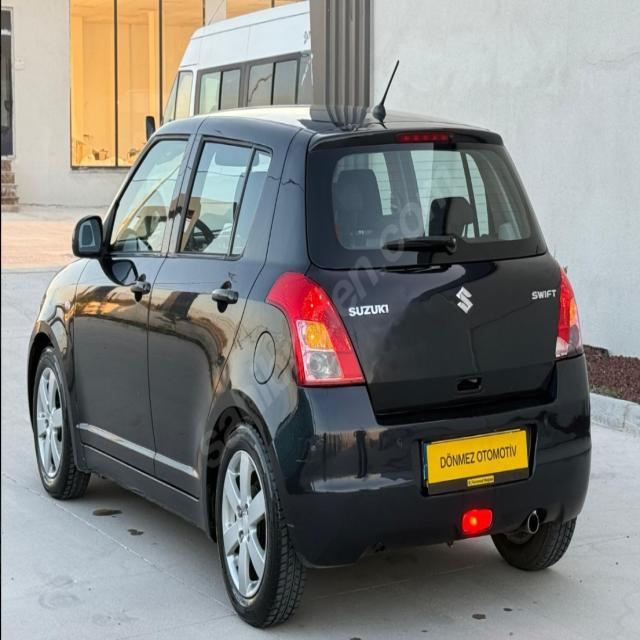suzuki: (454, 283, 475, 317)
